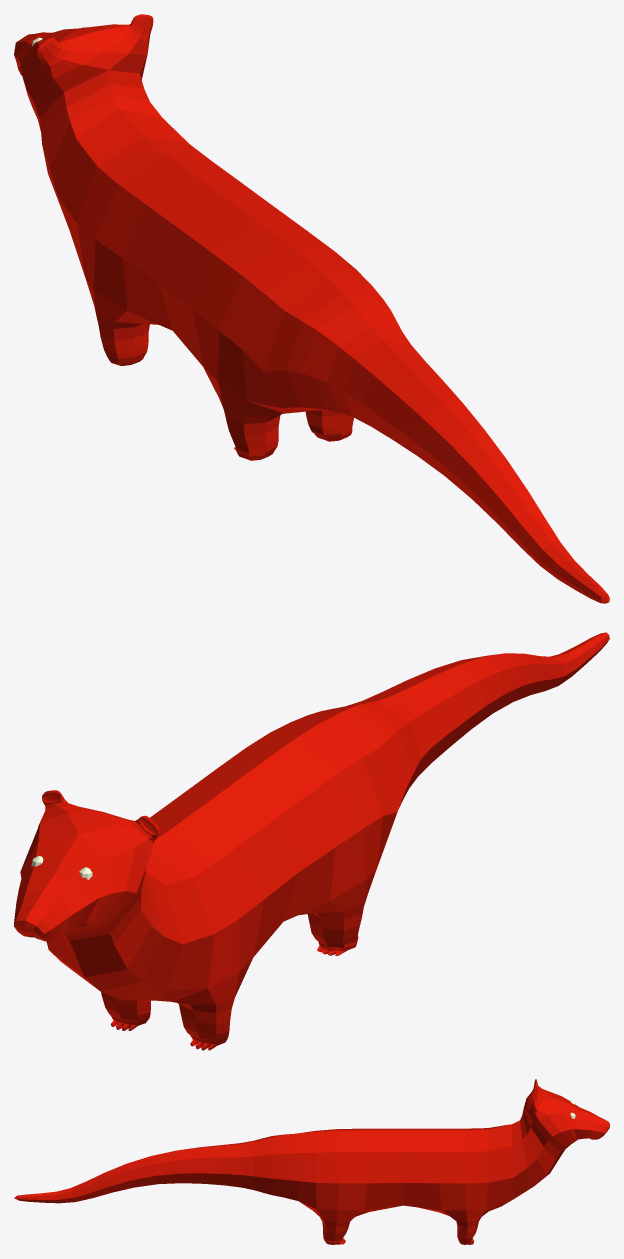
File: watersausage 2.fbx
The picture shows the model from 3 angles, top to bottom: view 1: azimuth 30°, elevation 25°; view 2: azimuth 150°, elevation 25°; view 3: azimuth 270°, elevation 25°; orthographic projection. The views are drawn at different scales.
Visible parts, largest first — view 1: Eyes; view 2: Eyes; view 3: Eyes.
Boxes of the visible parts, box(x1,y1,x2,y2) form: Eyes: box(14, 14, 609, 603); Eyes: box(14, 632, 609, 1050); Eyes: box(14, 1079, 609, 1244).
Size of the model in its own units: 182 by 341 by 1282.
